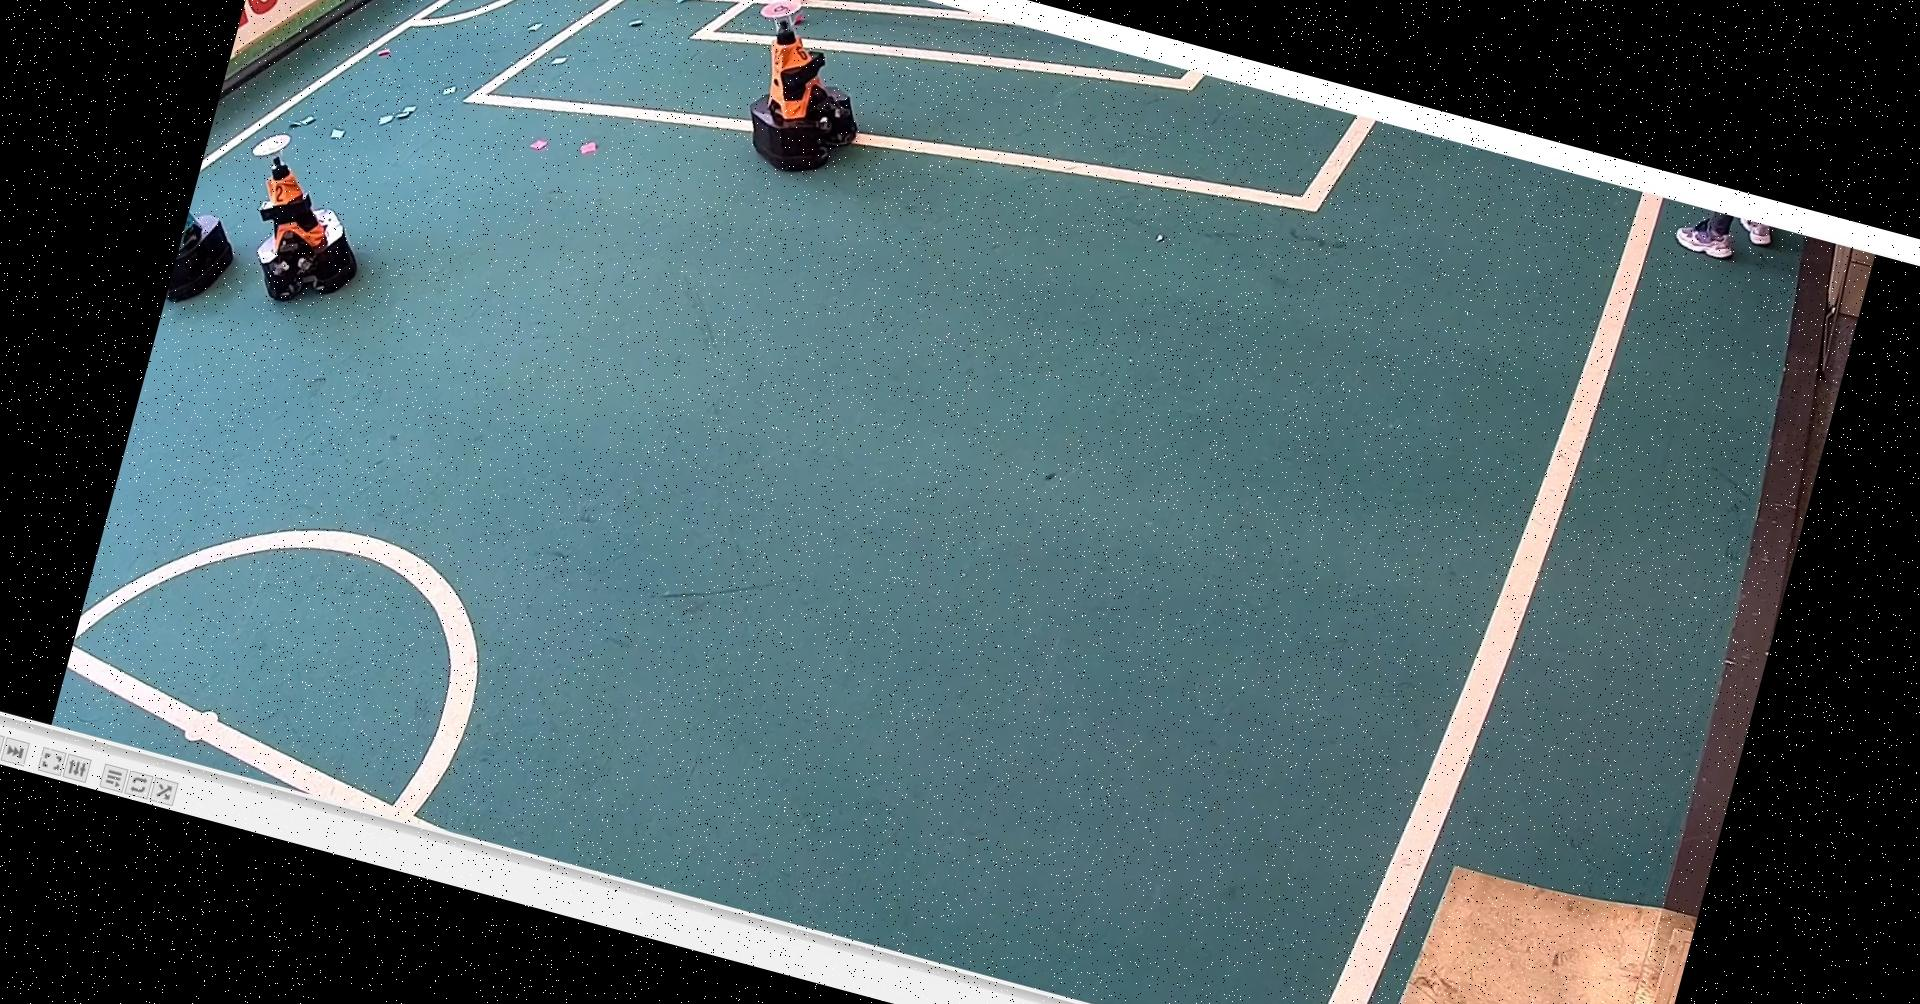Team_Red: (212, 123, 391, 321), (714, 0, 894, 192)
